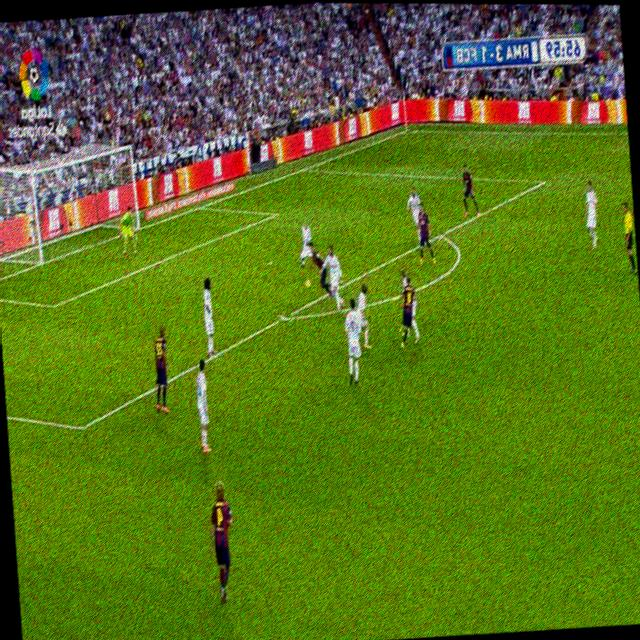bigarea_bottom_inner: (75, 416, 86, 438)
bottom_arc_area_intersection: (277, 309, 291, 327)
corner: (401, 122, 411, 134)
top_arc_area_intersection: (438, 228, 443, 240)
